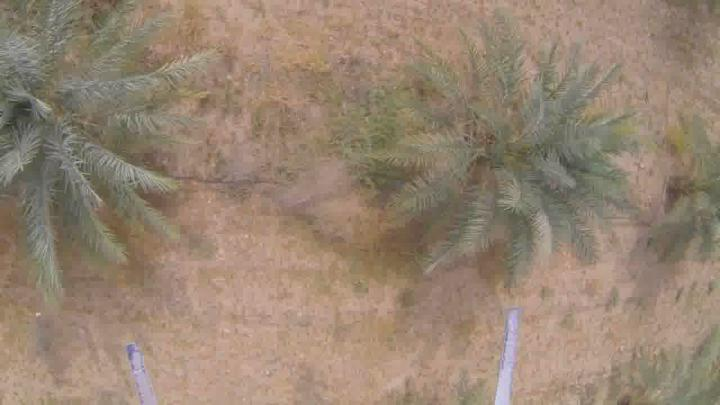Date-Palm-Crown: (424, 53, 604, 247), (0, 19, 162, 219), (682, 122, 720, 242)
